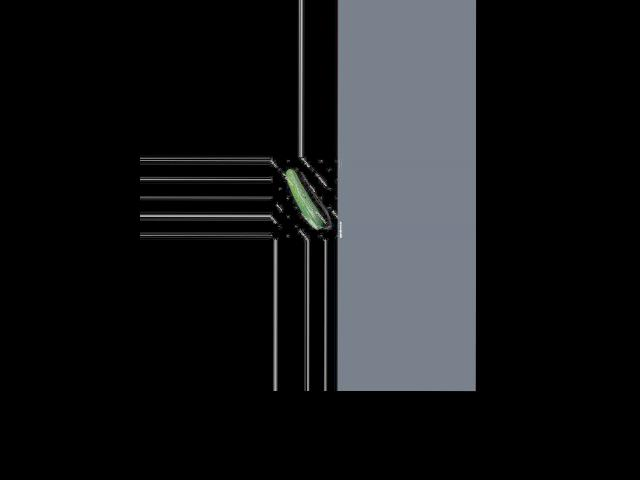cucumber: (286, 168, 324, 229)
